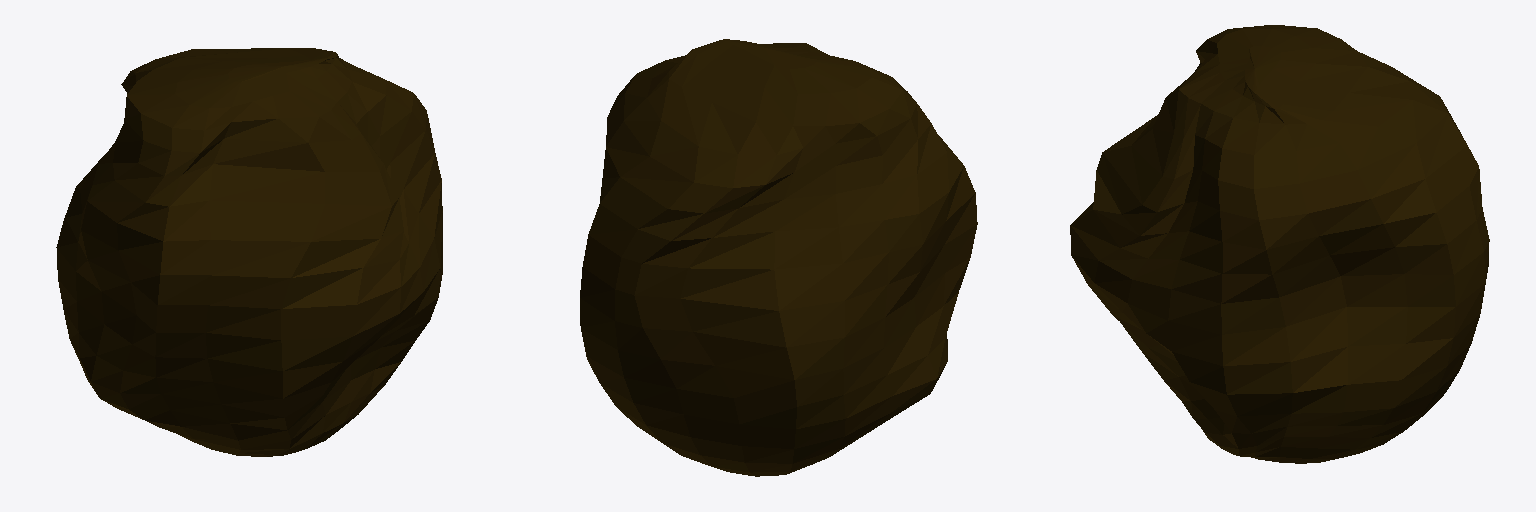
The model's file is ball2.obj.
3 renders of one model, left to right at view 1: azimuth 30°, elevation 25°; view 2: azimuth 150°, elevation 25°; view 3: azimuth 270°, elevation 25°, orthographic.
Parts seen in each view (by area): view 1: pSphere1; view 2: pSphere1; view 3: pSphere1.
Part boxes in pixels (bbox=[...]): pSphere1: bbox=[56, 48, 442, 456]; pSphere1: bbox=[580, 39, 977, 476]; pSphere1: bbox=[1070, 25, 1489, 463].
Bounding box in the file's own units: 2.9 × 3.24 × 3.15.